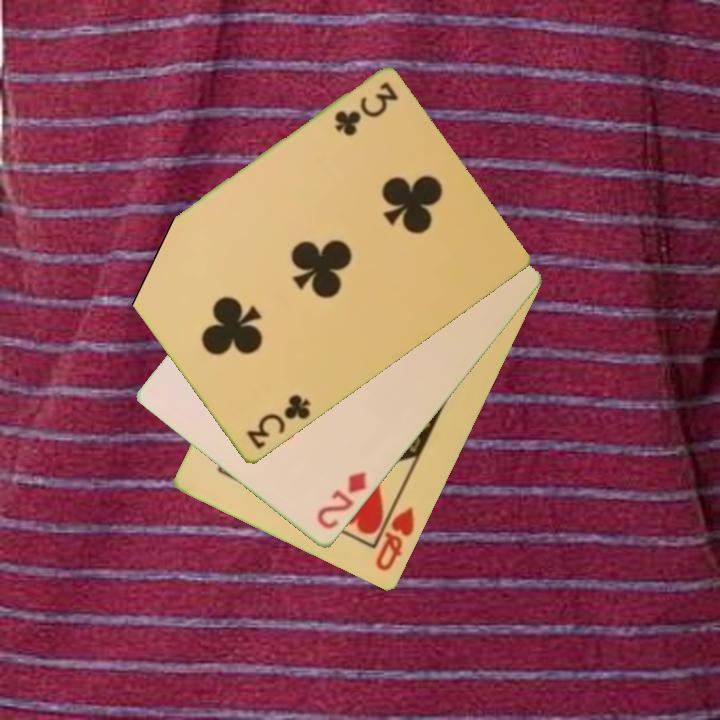2d: (313, 468, 370, 533)
3c: (242, 391, 314, 453), (330, 79, 401, 139)
Qh: (372, 503, 418, 575)
